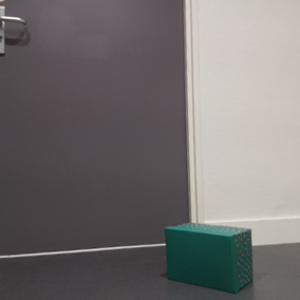small: (160, 220, 257, 294)
